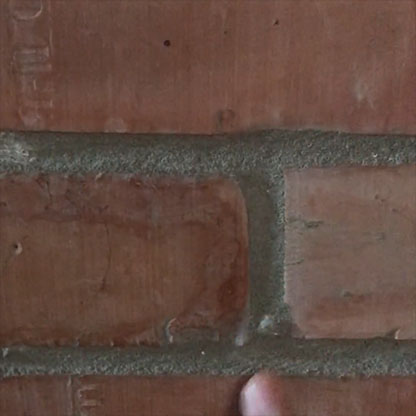fingertip: (231, 355, 302, 416)
